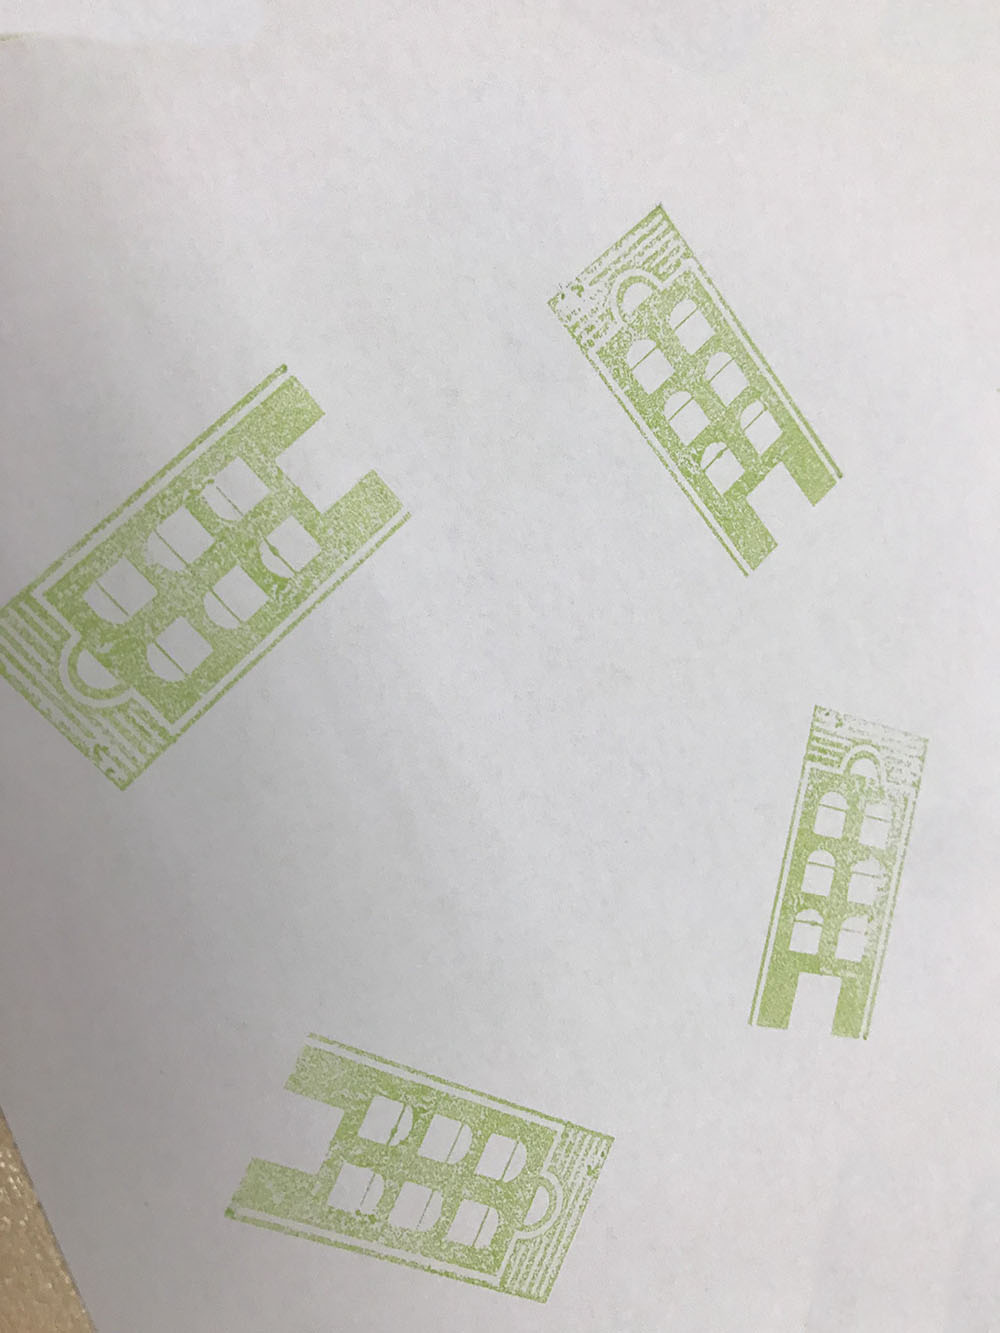build: (1, 307, 414, 817), (511, 183, 895, 599), (174, 990, 640, 1326), (717, 632, 963, 1107)
